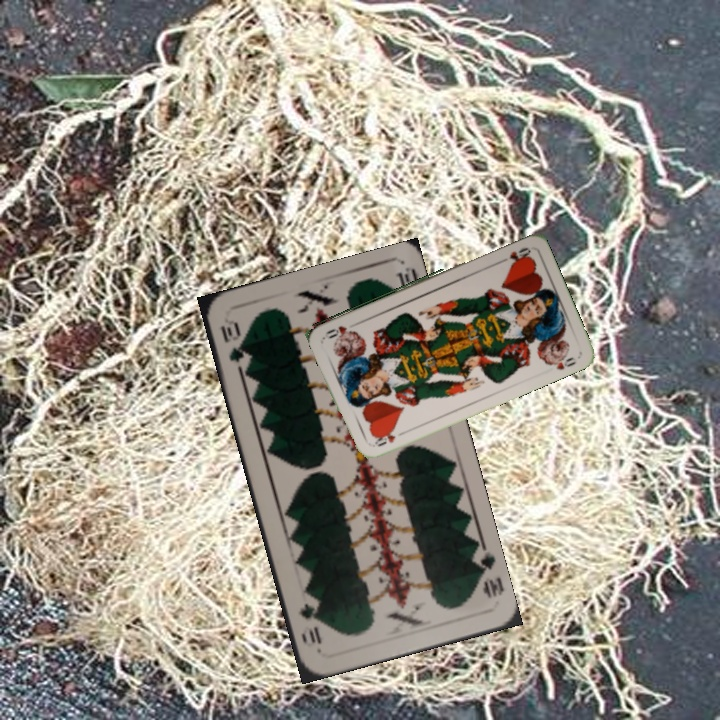G10: (468, 548, 505, 602), (216, 318, 248, 366)
HO: (494, 243, 533, 266), (368, 424, 398, 450)
